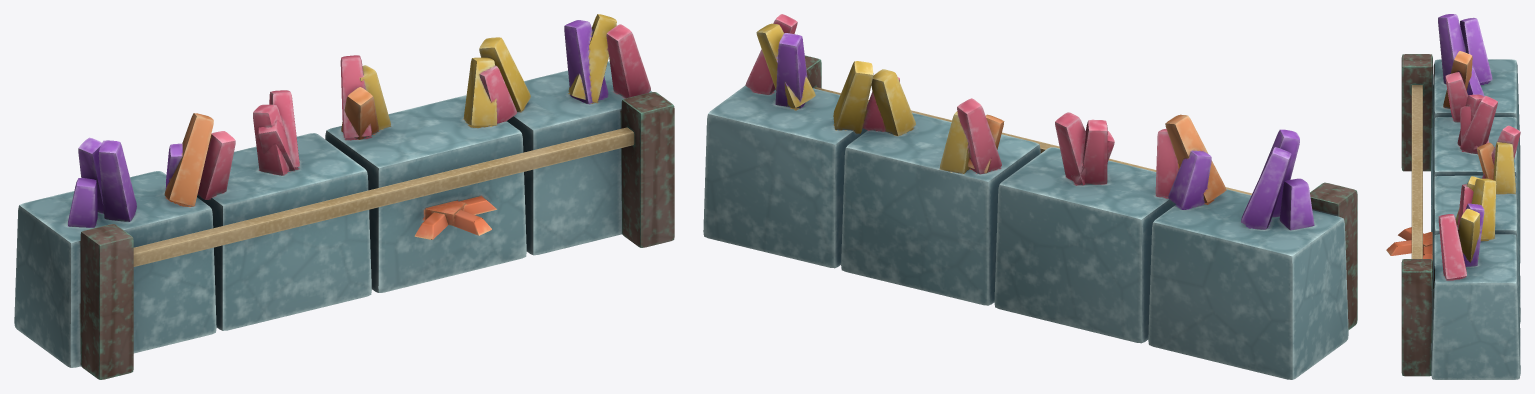
Rendered from Abysses_Muret.fbx.
The picture shows the model from 3 angles, left to right: view 1: azimuth 30°, elevation 25°; view 2: azimuth 150°, elevation 25°; view 3: azimuth 270°, elevation 25°; orthographic projection. The views are drawn at different scales.
Visible parts, largest first — view 1: Abysses_Muret; view 2: Abysses_Muret; view 3: Abysses_Muret.
Part boxes in pixels (box(x1,y1,x2,y2)): Abysses_Muret: box(14, 14, 674, 379); Abysses_Muret: box(703, 14, 1357, 379); Abysses_Muret: box(1386, 14, 1520, 379).
Bounding box in the file's own units: 1192 × 394 × 299.
Materials: 1 (1 with a texture image).
